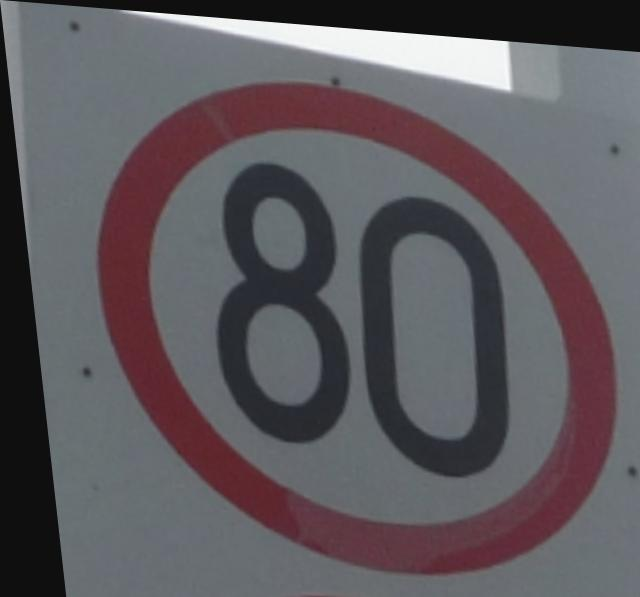limit80: (60, 50, 636, 590)
